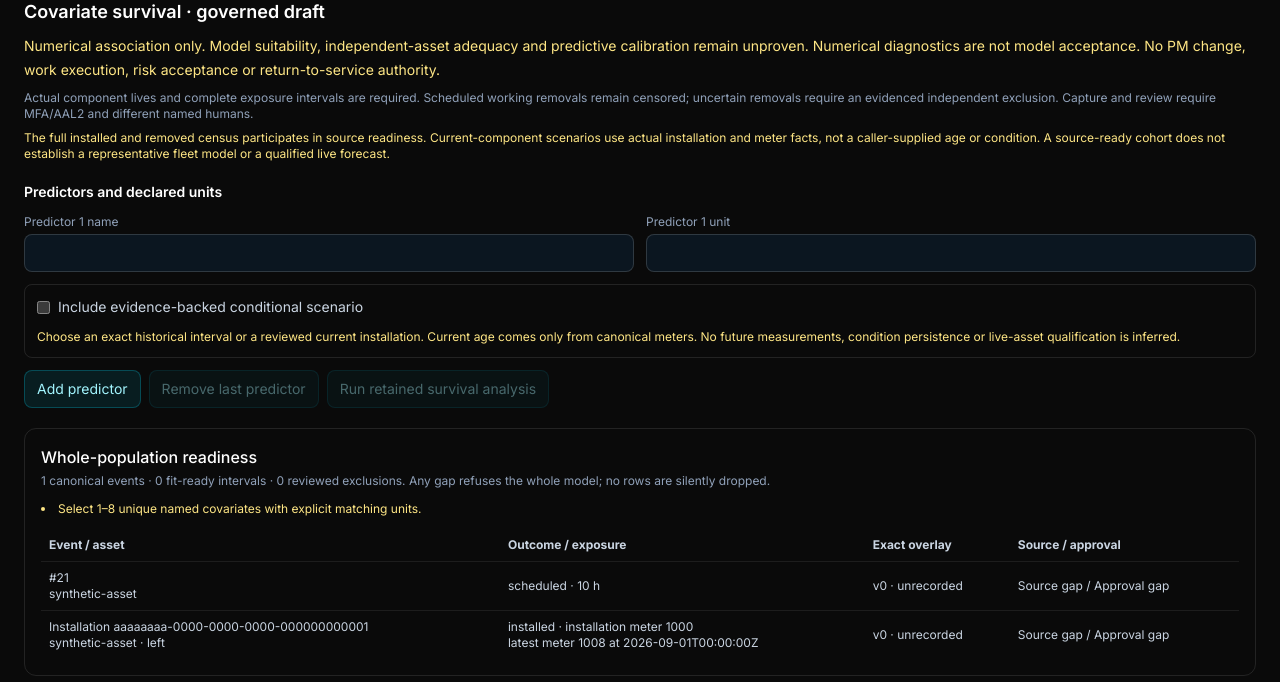
governed covariate survival workbench › sends current-target UUID and horizon only, with no editable current-age field
The image size is (1280, 682).
Expected: the heading "Whole-population readiness" is shown, [41,447,257,467]
Type "synthetic_load" into the field labelled "Predictor 1 name" at point(329, 253), box [24,234,634,272]
Type "ratio" into the field labelled "Predictor 1 unit" at point(951, 253), box [646,234,1256,272]
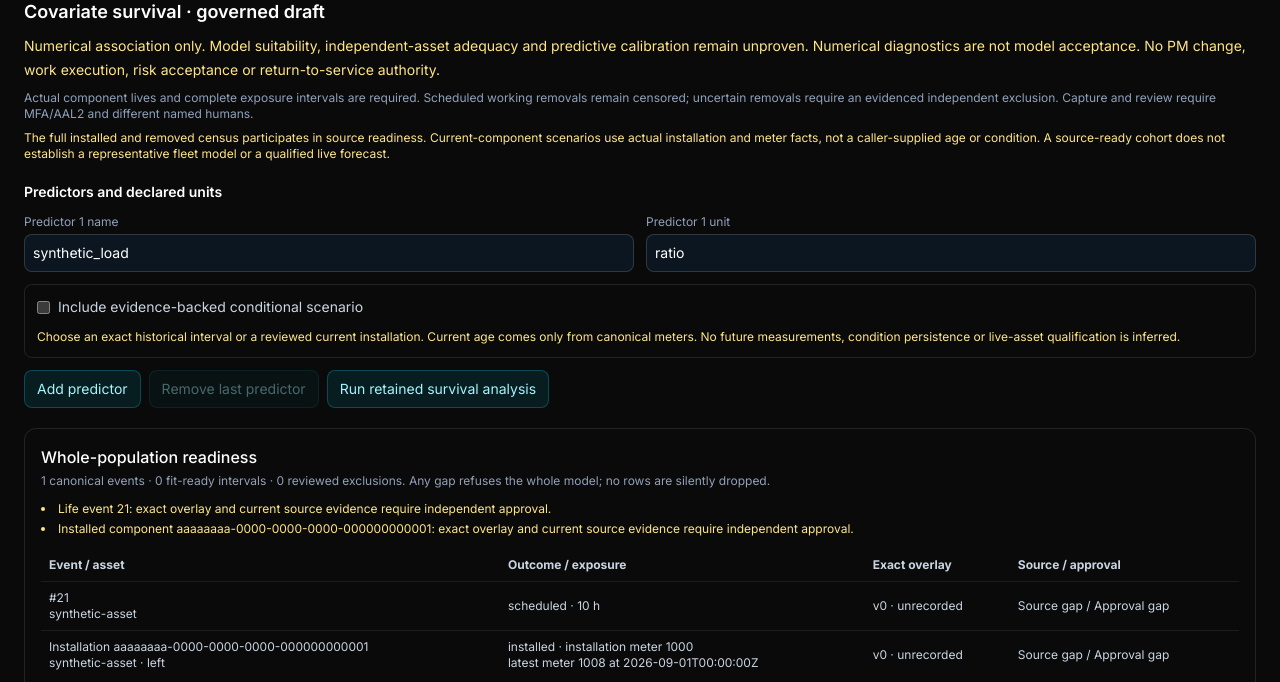
Click the checkbox labelled "Include evidence-backed conditional scenario" at point(44, 307), box [37,300,50,314]
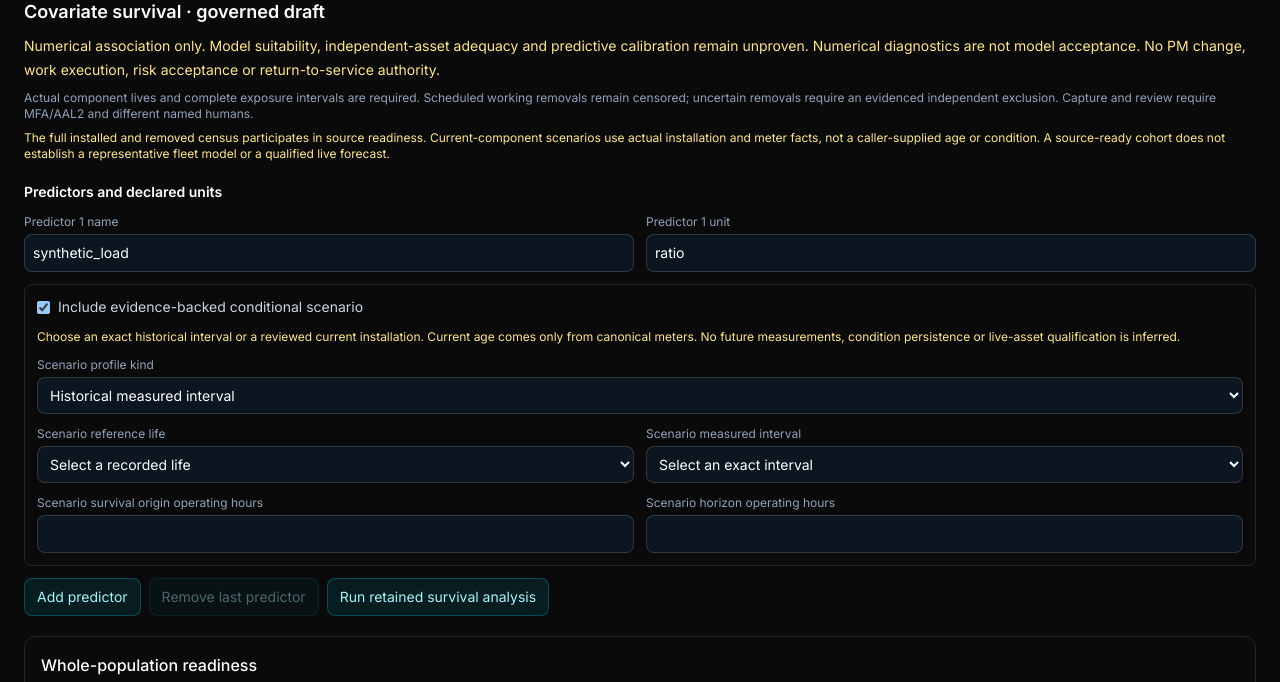
Select "Current canonical installation" in the dropdown labelled "Scenario profile kind" at point(640, 396), box [37,377,1243,414]
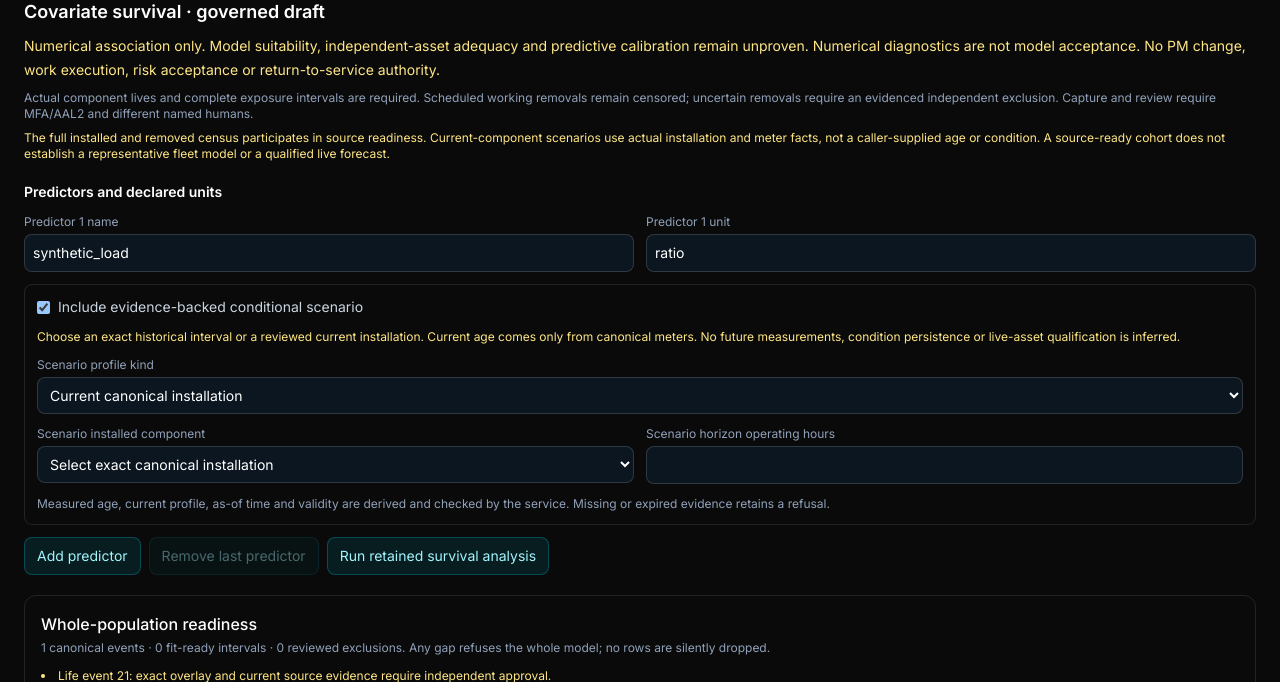
Select "aaaaaaaa-0000-0000-0000-000000000001 · left · unrecorded" in the dropdown labelled "Scenario installed component" at point(336, 464), box [37,446,634,483]
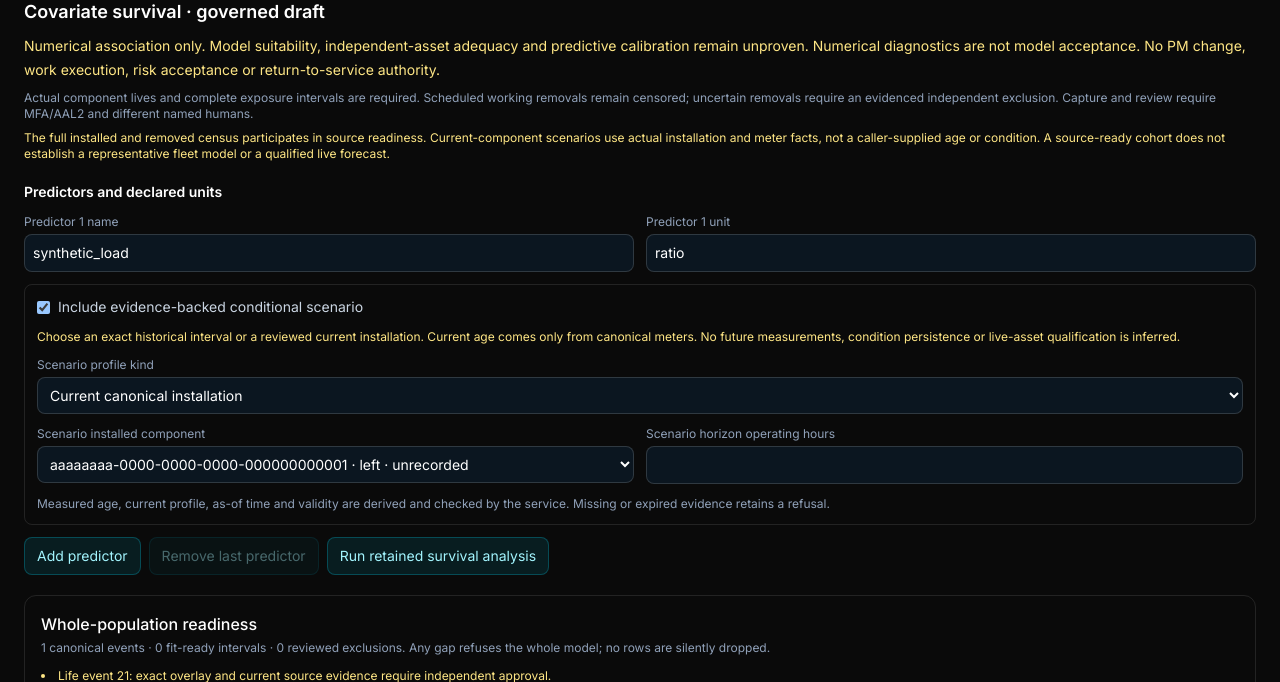
Type "12" into the number field labelled "Scenario horizon operating hours" at point(944, 465), box [646,446,1243,484]
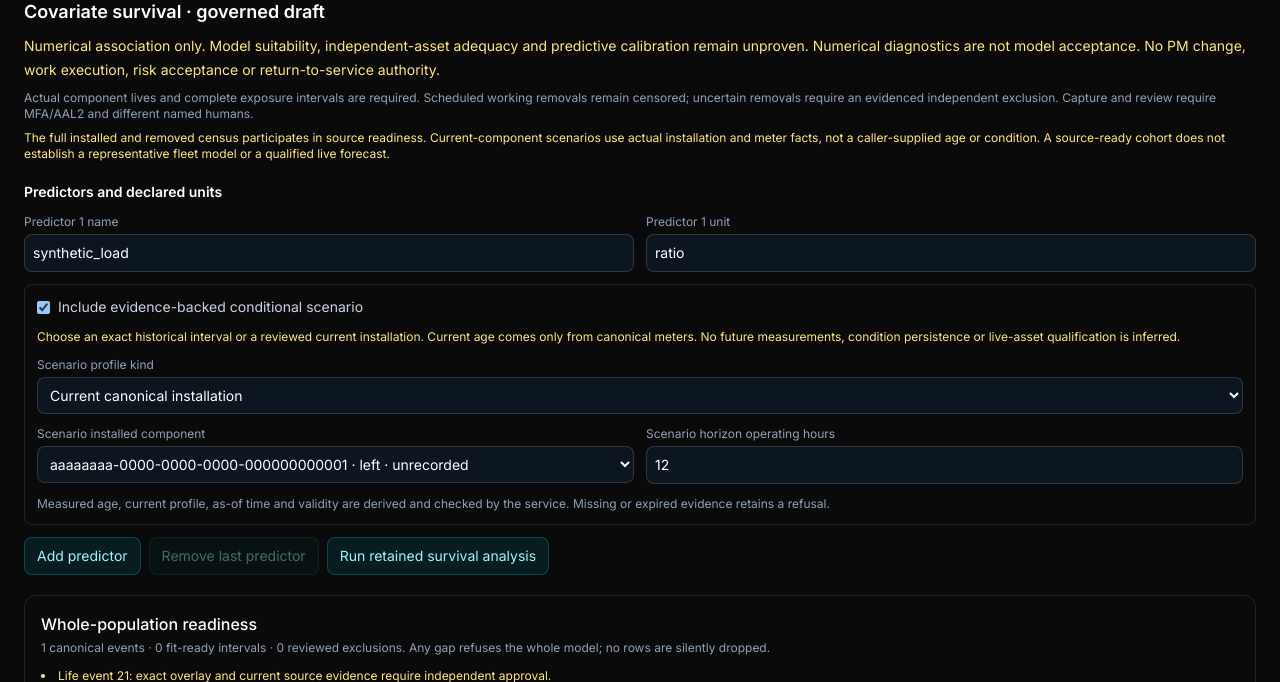
Expected: the label labelled "Scenario survival origin operating hours" is not shown
Click the button "Run retained survival analysis" at point(438, 556), box [327,537,549,575]
(page scrolled)
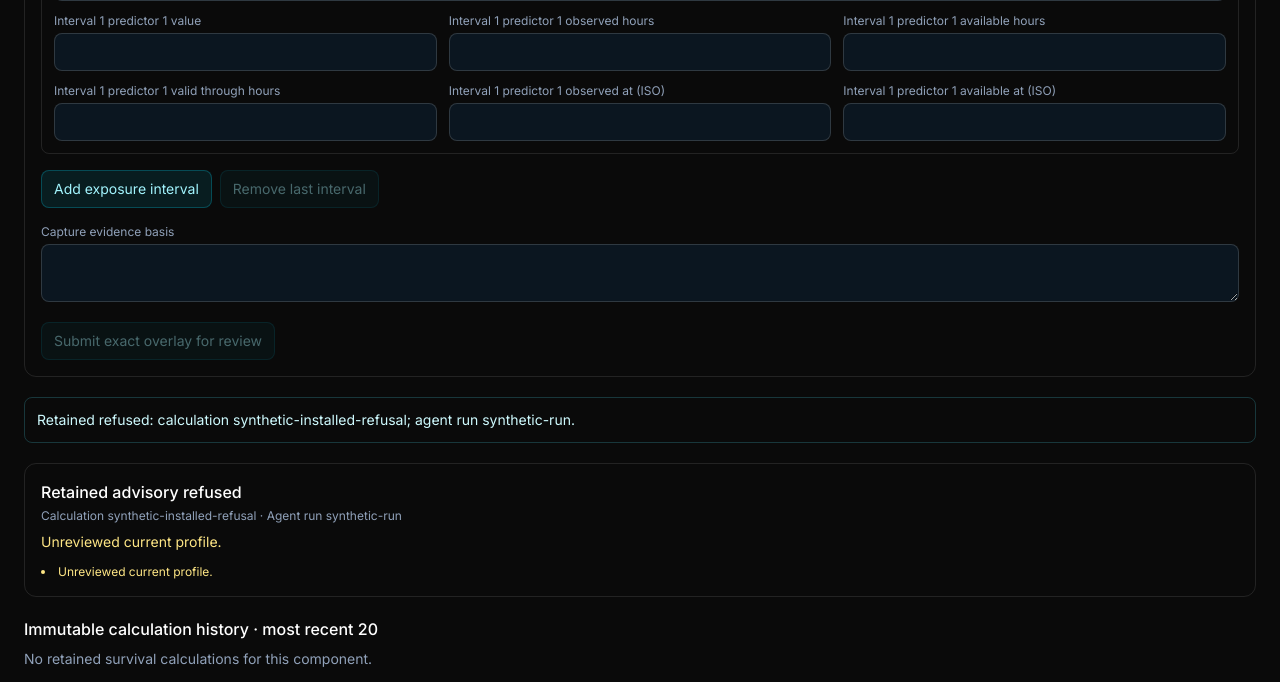
Result: the heading "Retained advisory refused" is shown at [41,482,242,502]
